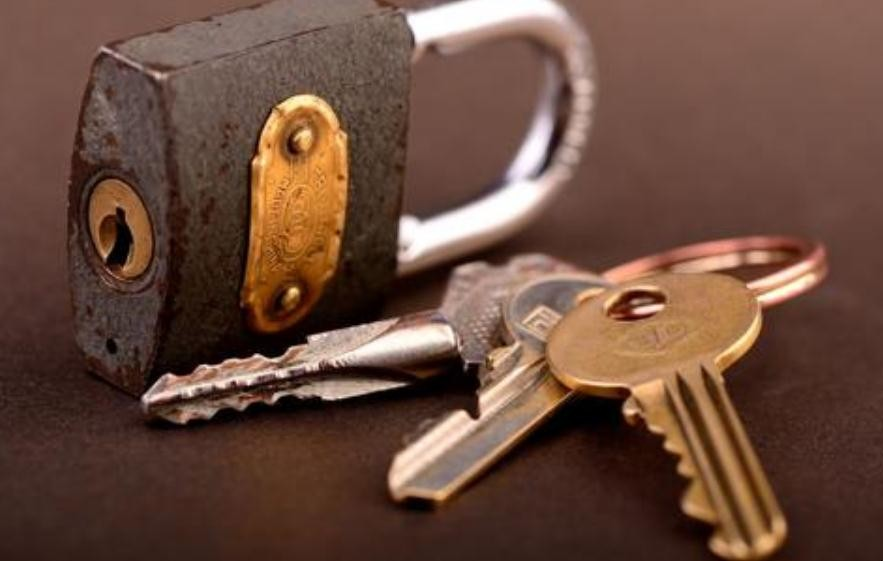key: (139, 245, 611, 433), (543, 266, 835, 556), (365, 267, 645, 512)
